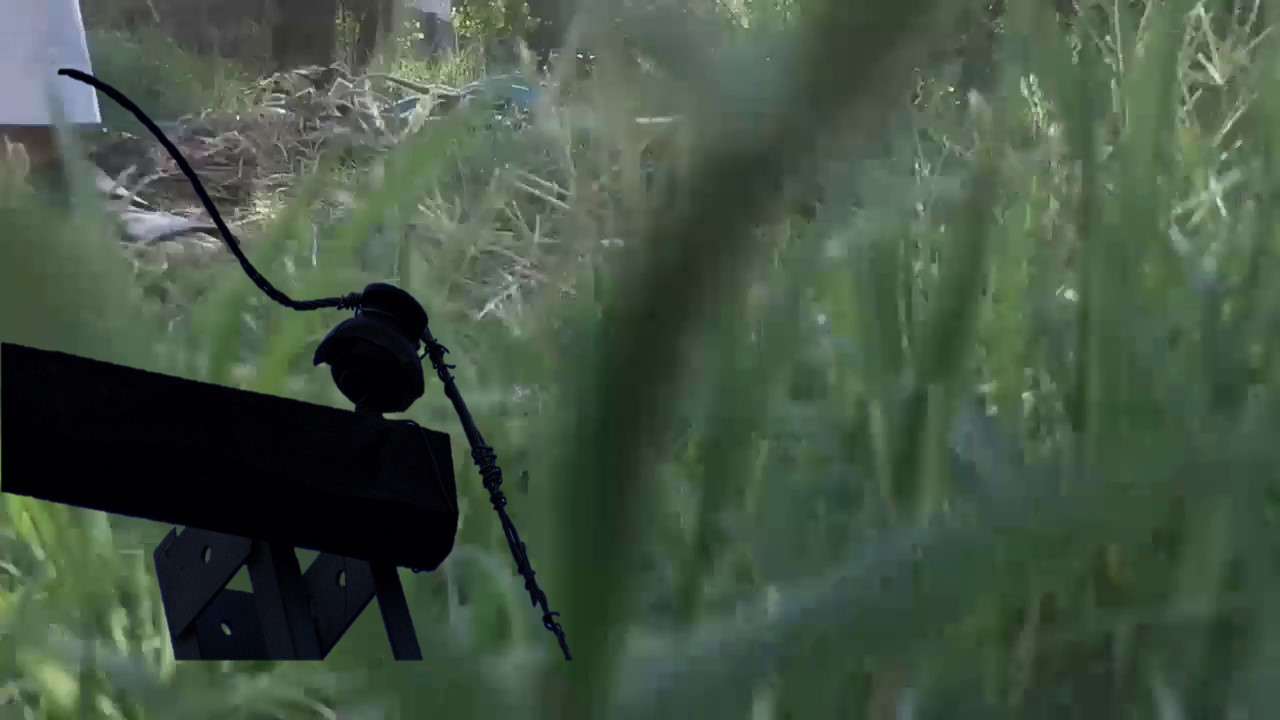defect_pin: (309, 278, 436, 418)
